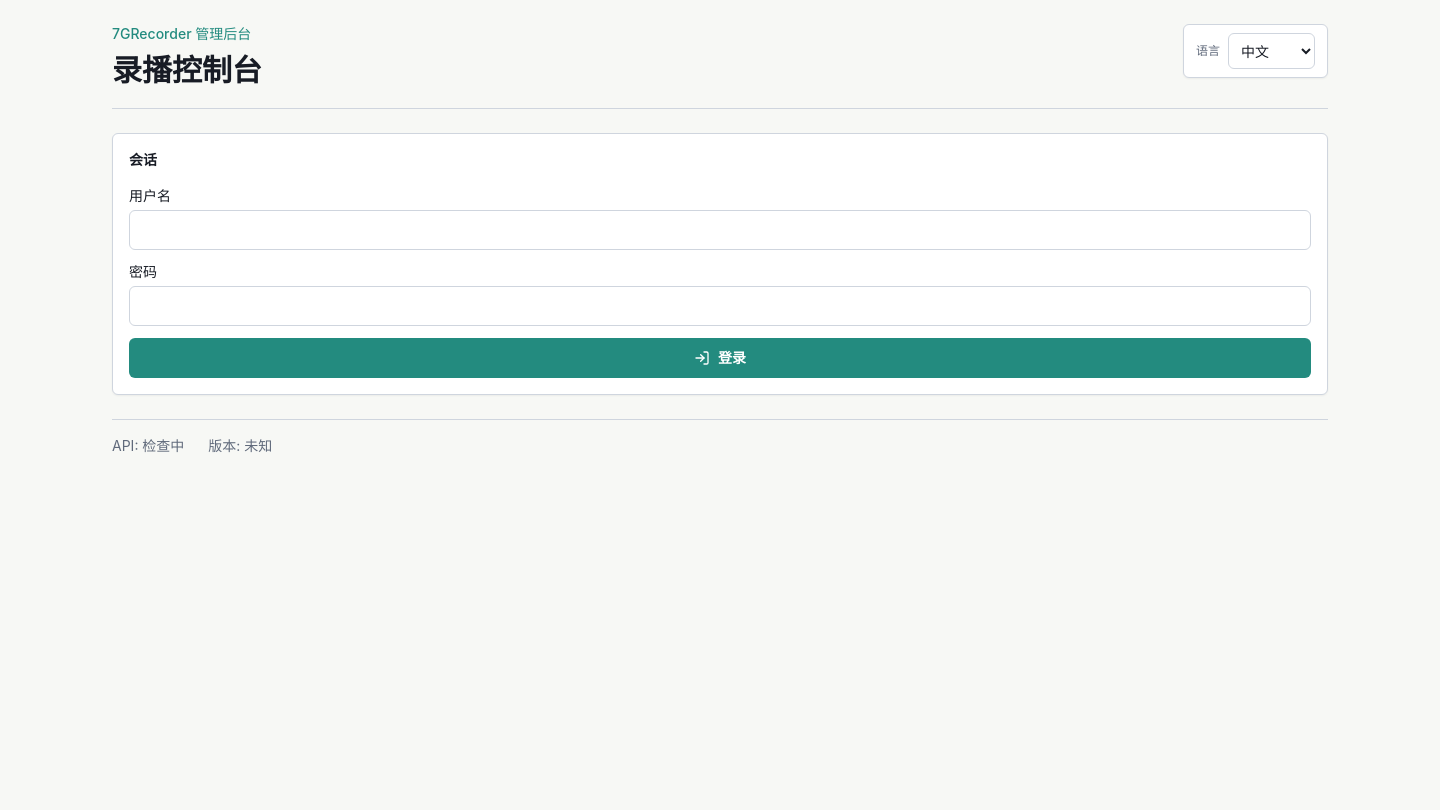
Scenario: AdminDashboard › renders accounts for super admins
Select "English" in the dropdown at {"x": 1272, "y": 51}, box [1228,33,1315,69]
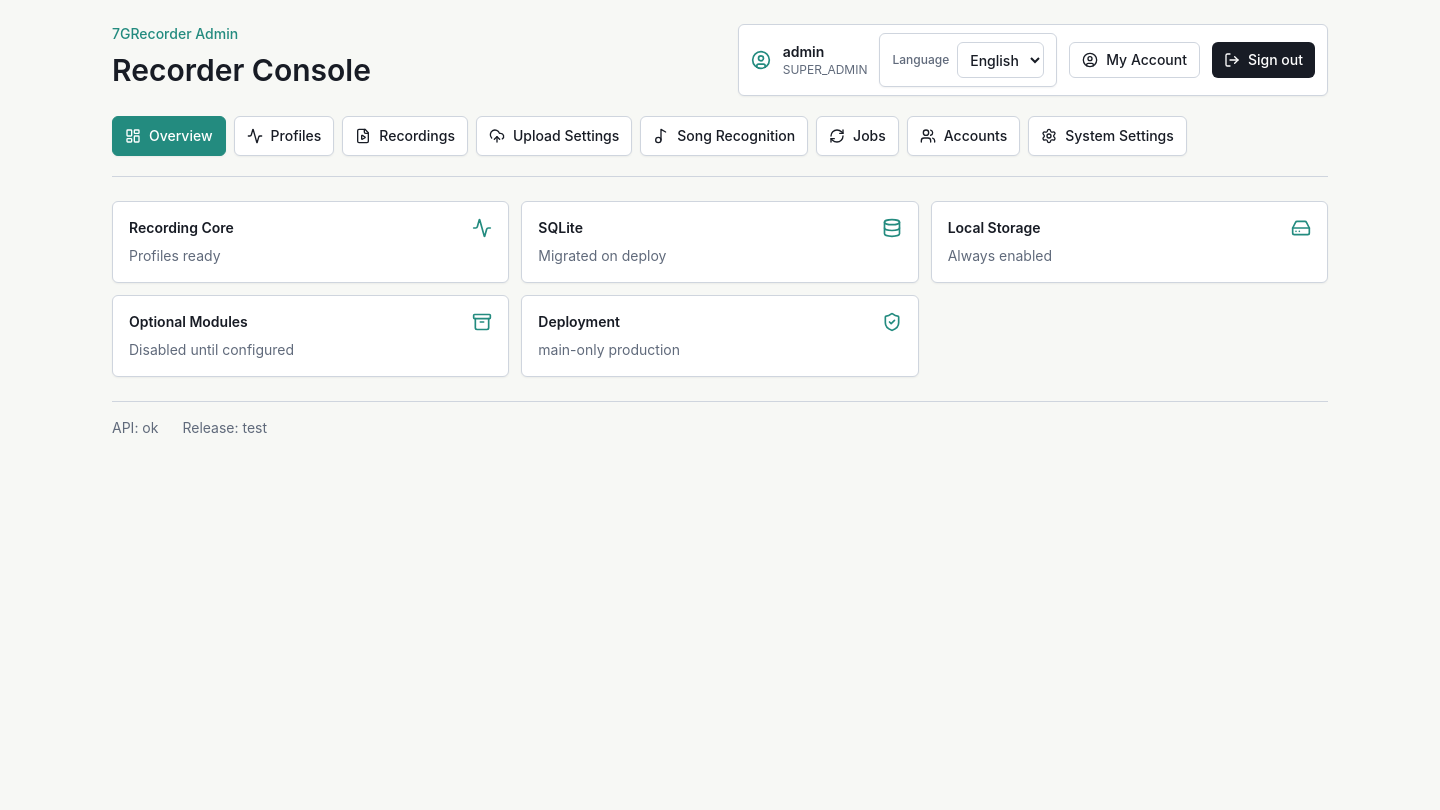
Expected: the heading "Recorder Console" is shown, [112,52,371,88]
Click the button "Accounts" at {"x": 964, "y": 136}, box [907,116,1020,156]
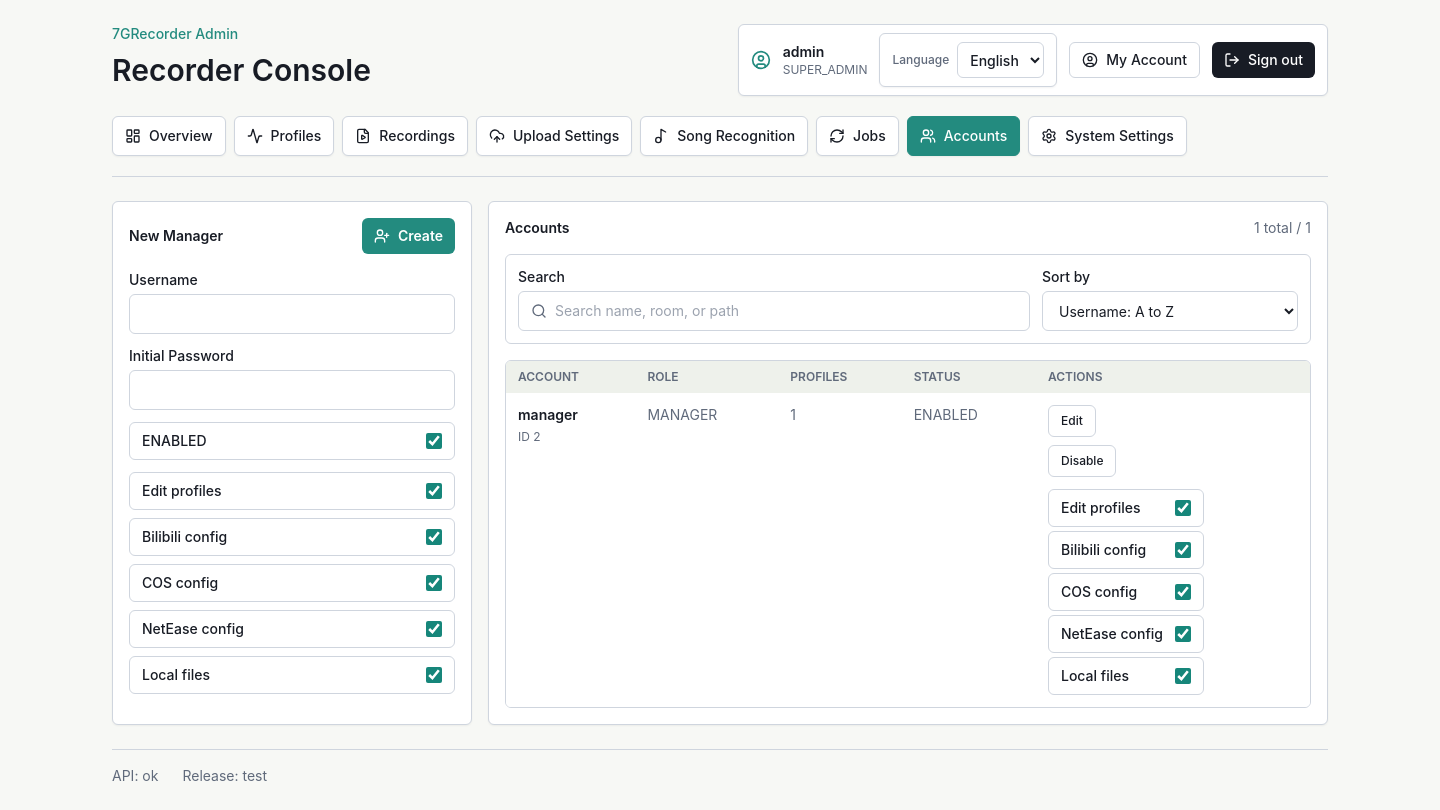
Expected: the heading "Accounts" is shown, [505,218,570,238]
Expected: the text "manager" is shown, [518,406,578,423]
